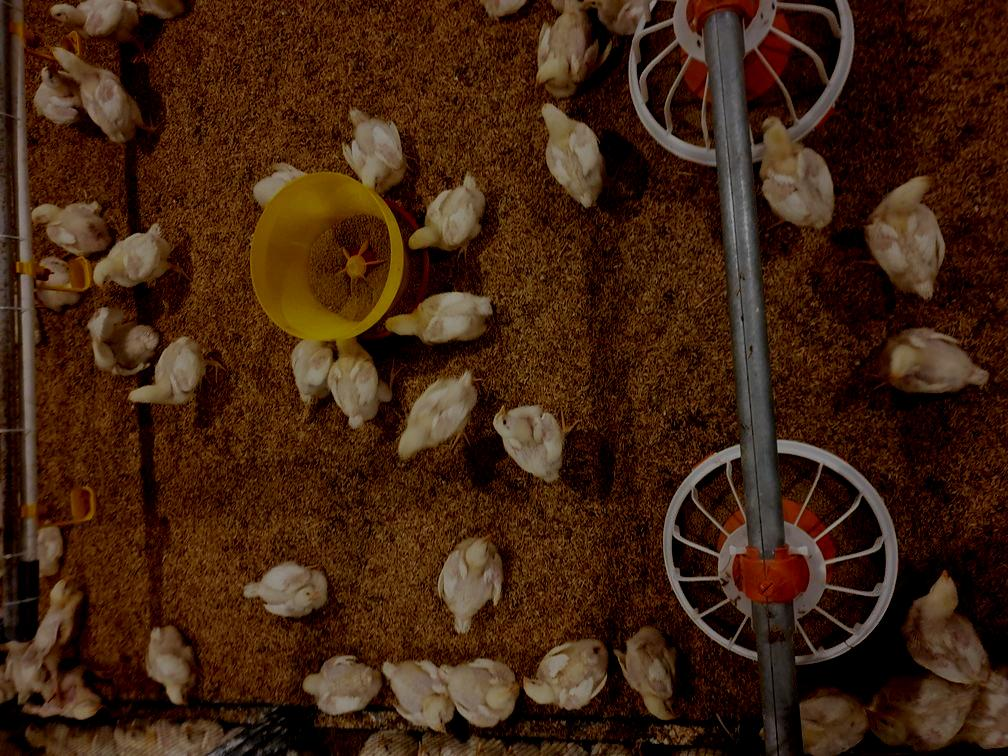Pollos: (901, 568, 995, 683), (47, 43, 158, 138), (867, 681, 1004, 756), (868, 172, 946, 295), (762, 117, 837, 225), (392, 371, 478, 464), (880, 324, 988, 397), (615, 628, 694, 721), (407, 173, 489, 259), (436, 530, 504, 631), (492, 400, 572, 485), (95, 224, 190, 293), (522, 635, 607, 712), (541, 100, 604, 203), (132, 335, 216, 411), (339, 101, 411, 188), (530, 6, 604, 89), (383, 292, 491, 345), (240, 560, 333, 619), (140, 621, 205, 703), (329, 340, 386, 432), (386, 662, 459, 731), (303, 653, 380, 714), (454, 661, 520, 725), (30, 203, 114, 251), (42, 4, 145, 43)
